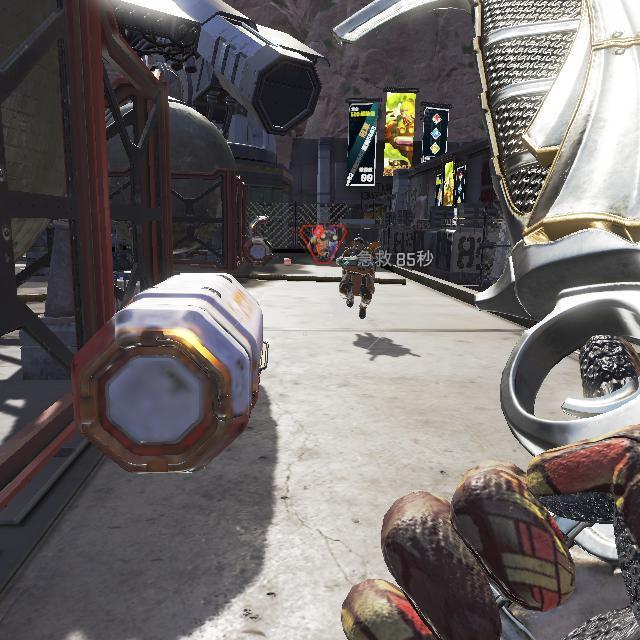avatar: (337, 235, 384, 320)
